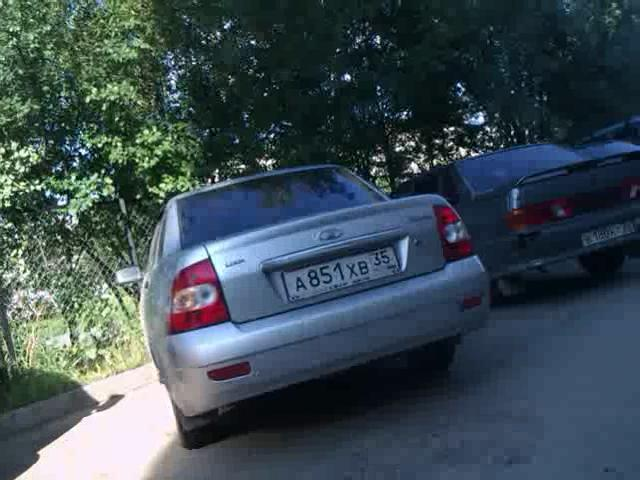license-plateSW: (283, 244, 401, 297)
